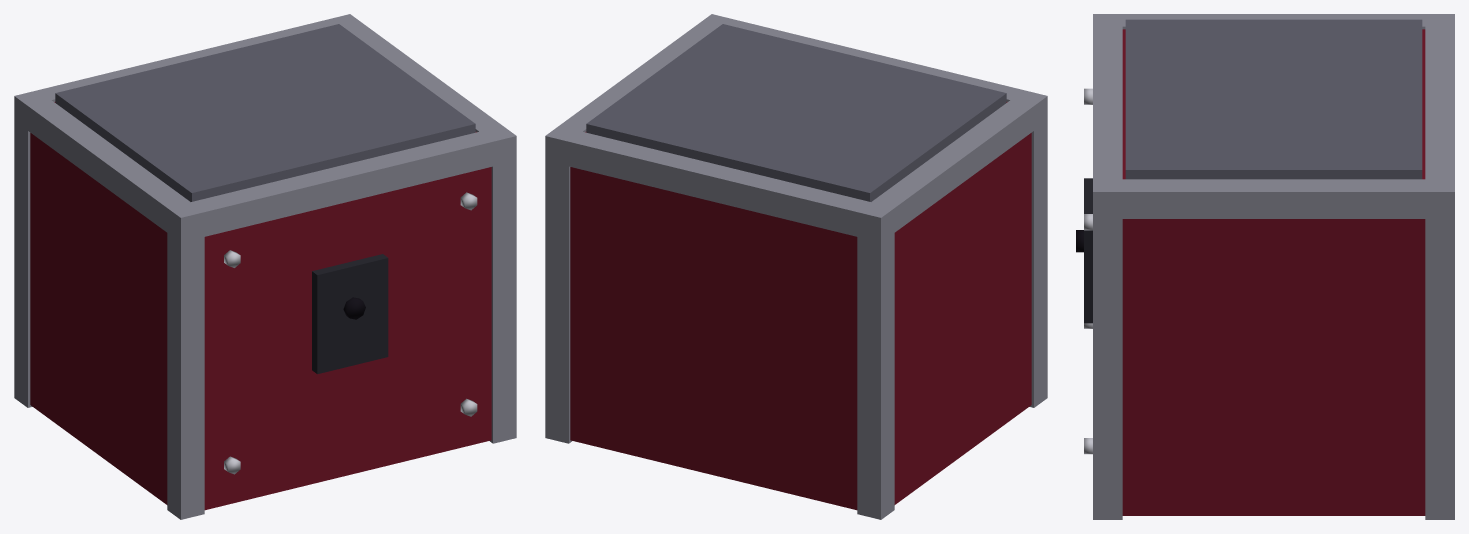
Rendered from strongbox.glb.
3 views of the same model, side by side, from view 1: azimuth 30°, elevation 25°; view 2: azimuth 150°, elevation 25°; view 3: azimuth 270°, elevation 25° (orthographic). The views are drawn at different scales.
Visible parts, largest first — view 1: strongbox; view 2: strongbox; view 3: strongbox.
Boxes of the visible parts, bbox=[...] form: strongbox: bbox=[14, 14, 516, 519]; strongbox: bbox=[545, 14, 1047, 519]; strongbox: bbox=[1076, 14, 1454, 519].
Bounding box in the file's own units: 0.426 × 0.375 × 0.383.
